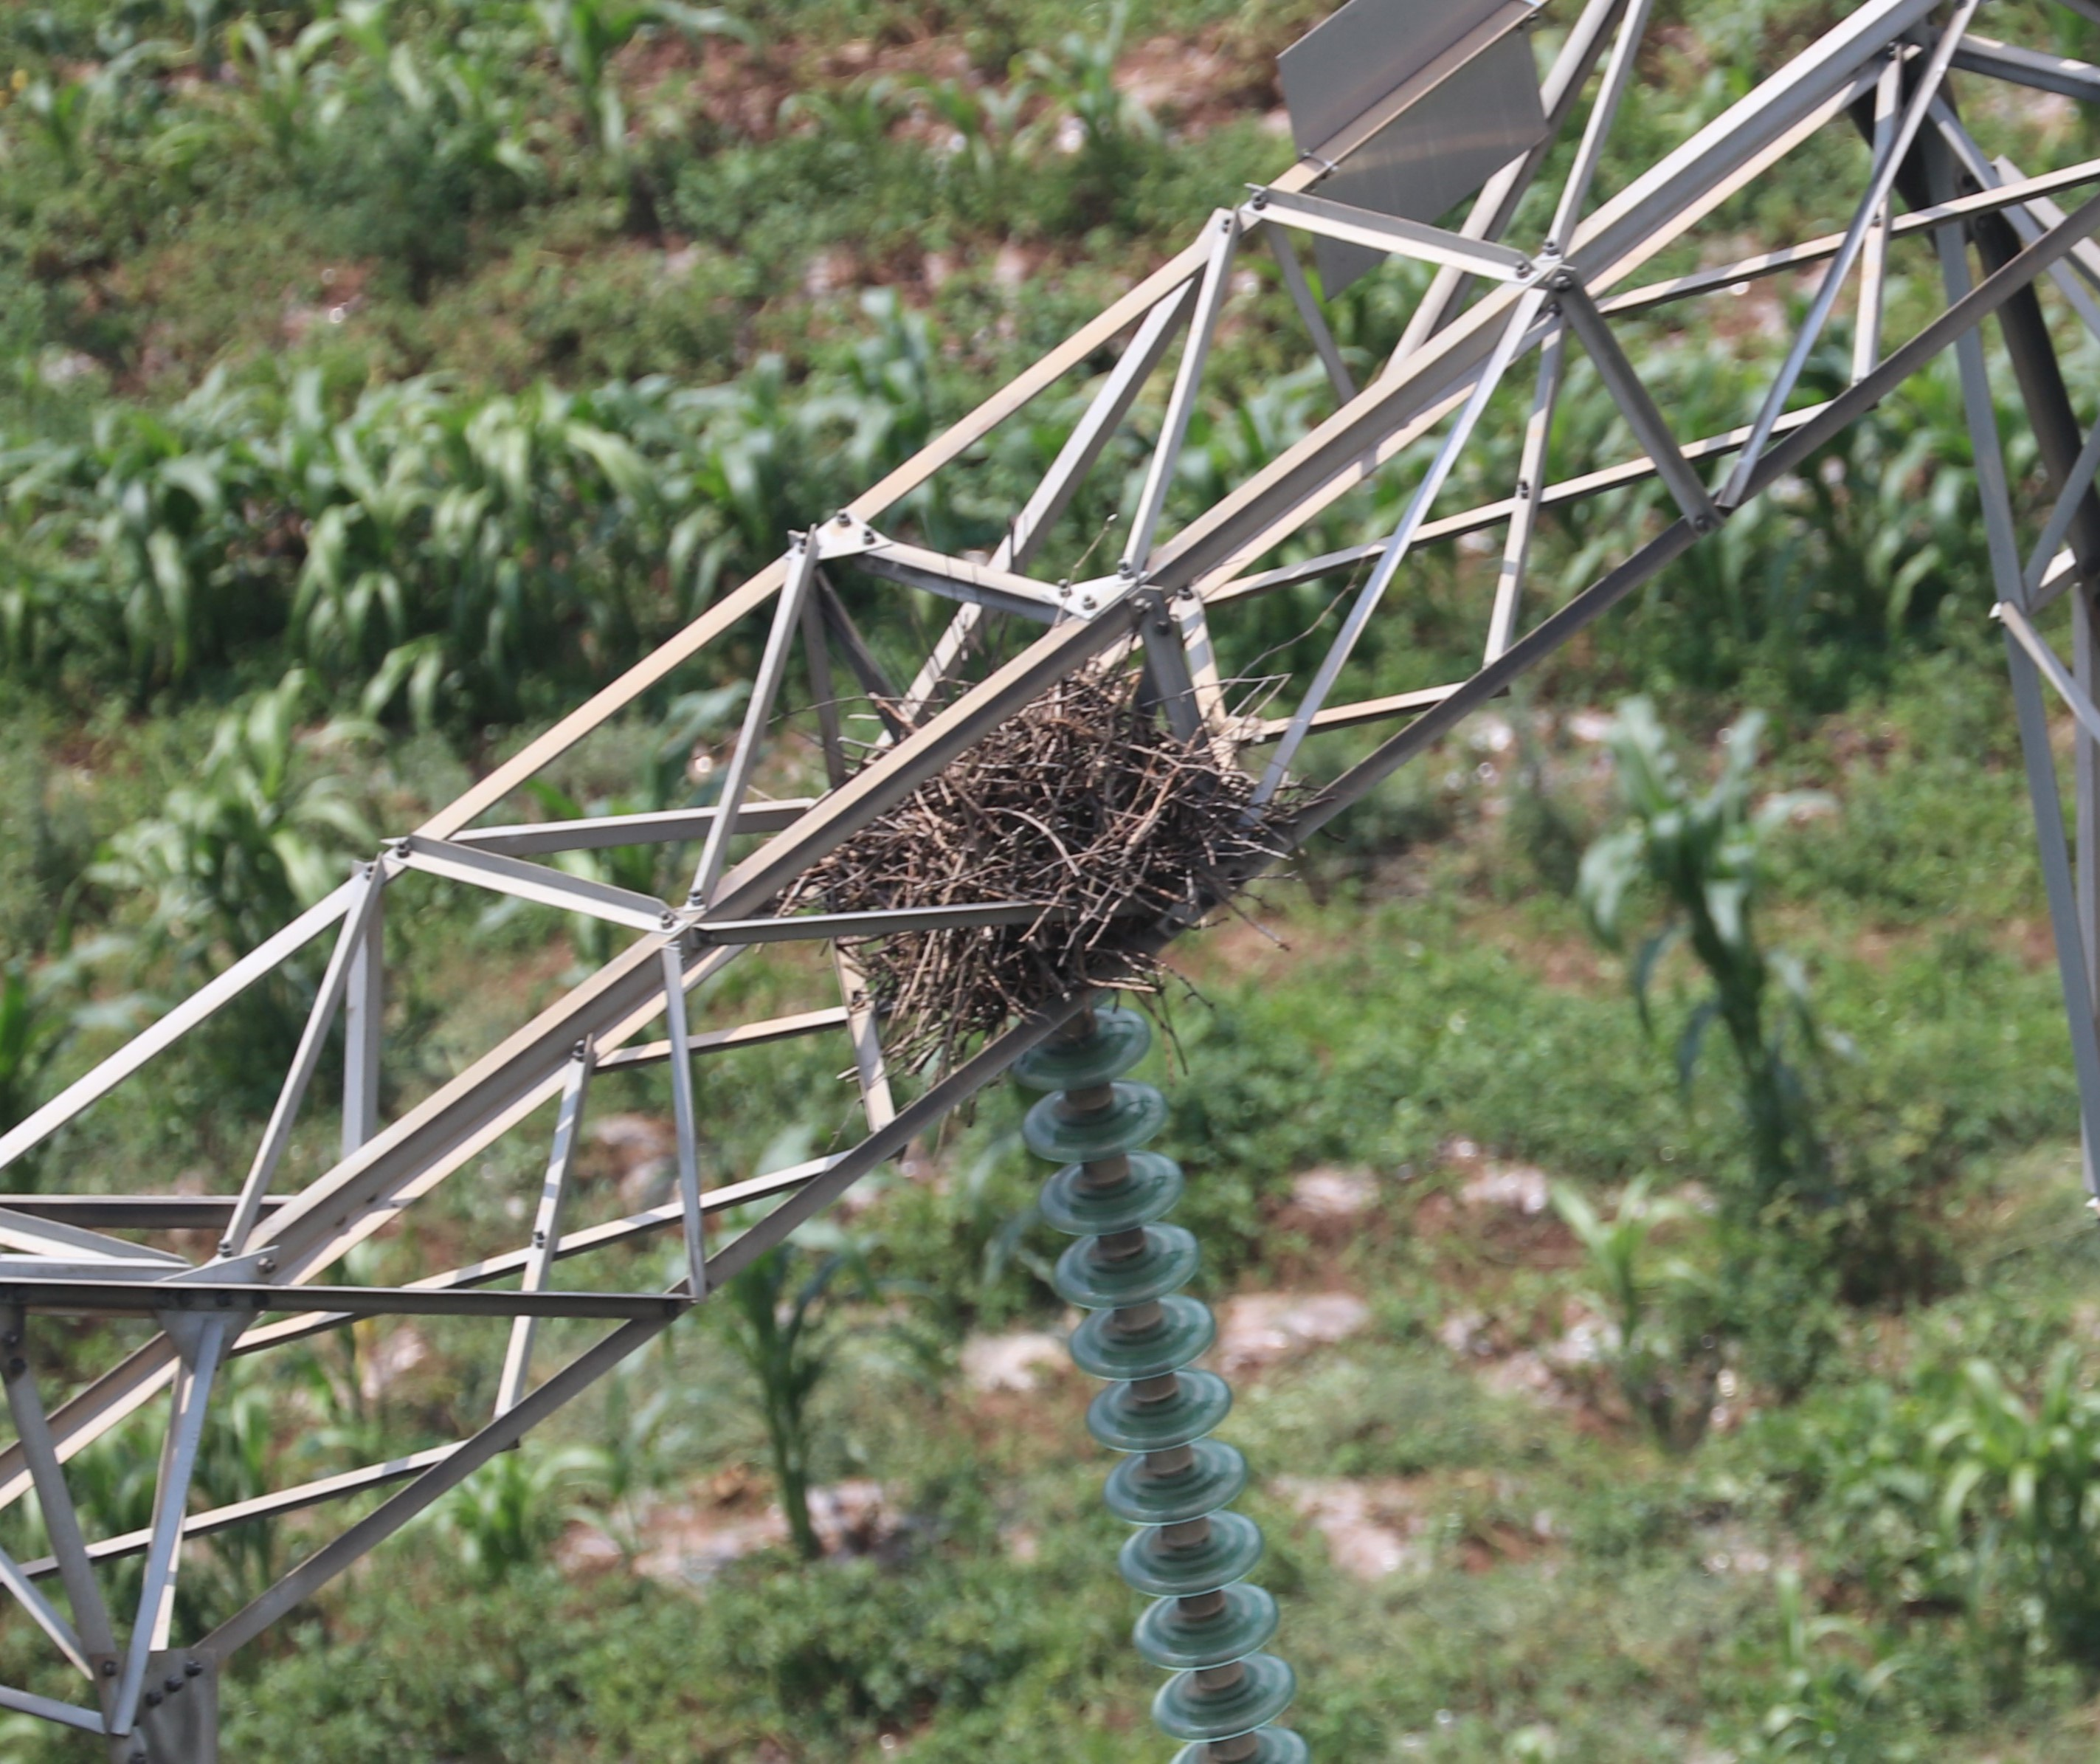niaowo: (793, 626, 1332, 1057)
